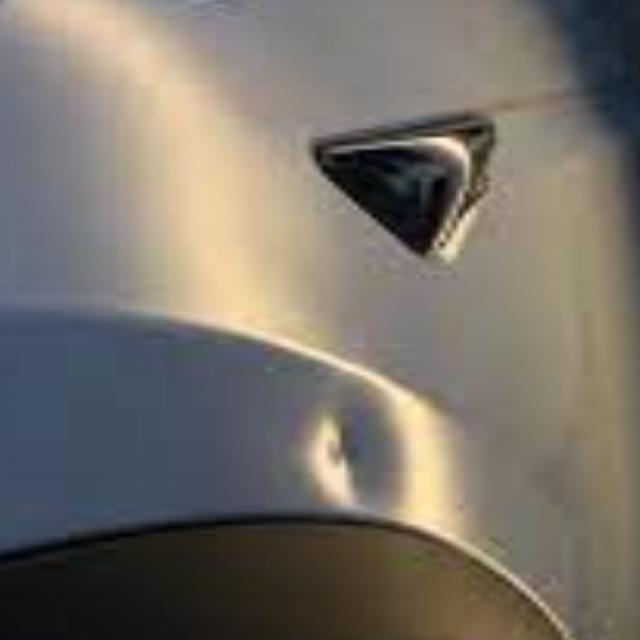dents: (271, 395, 469, 526)
